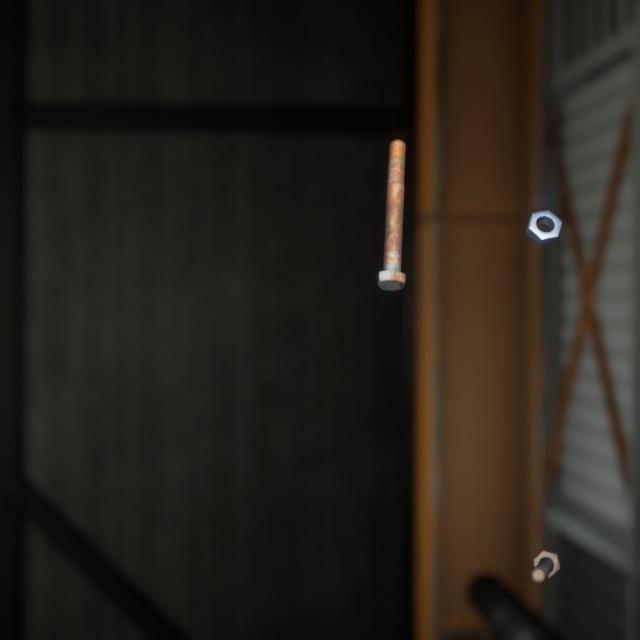bolt: (373, 121, 410, 280), (526, 523, 565, 564)
nut: (521, 190, 566, 234)
